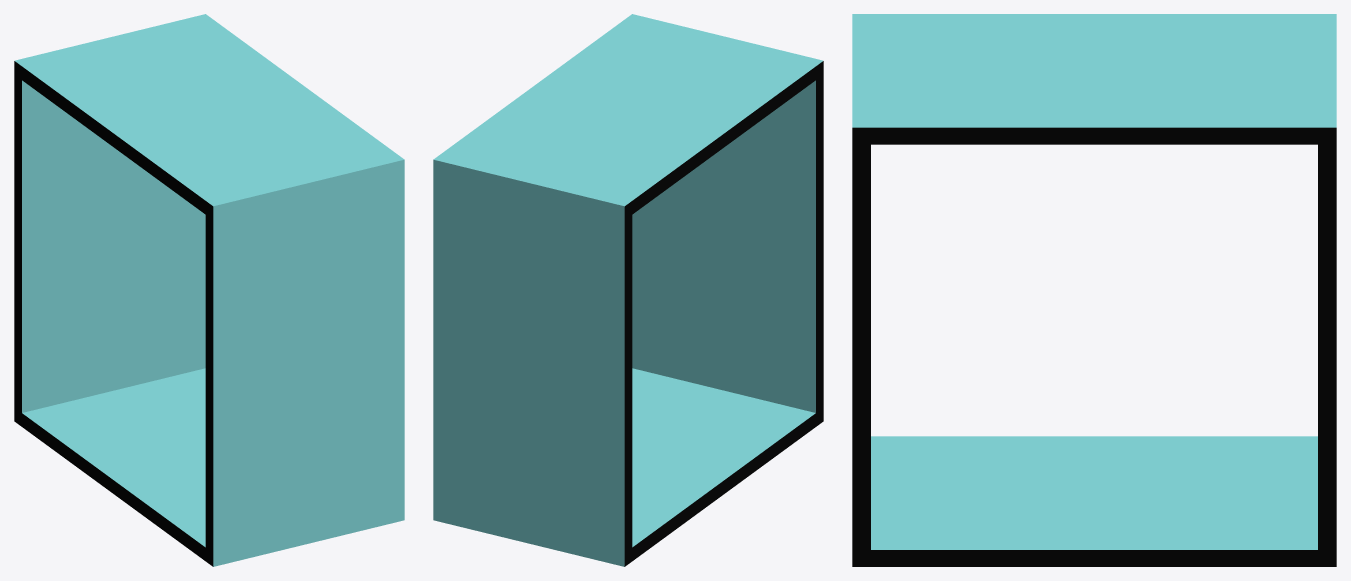
Rendered from robocon_glass.fbx.
The picture shows the model from 3 angles, left to right: view 1: azimuth 30°, elevation 25°; view 2: azimuth 150°, elevation 25°; view 3: azimuth 270°, elevation 25°; orthographic projection. The views are drawn at different scales.
Visible parts, largest first — view 1: tictactoe - Glass.008; view 2: tictactoe - Glass.008; view 3: tictactoe - Glass.008.
Boxes of the visible parts, x1,y1,x2,y2 form: tictactoe - Glass.008: (14, 14, 404, 566); tictactoe - Glass.008: (433, 14, 823, 566); tictactoe - Glass.008: (852, 14, 1336, 566).
Size of the model in its own units: 30 by 54 by 54.
